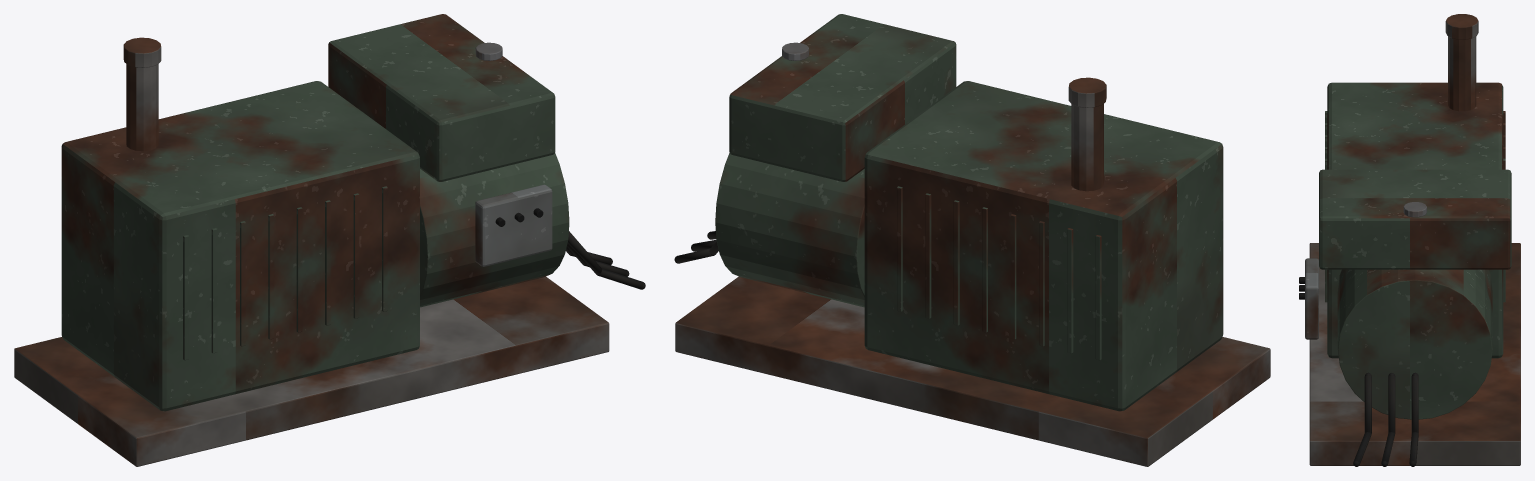
The model's file is F13_diesel_generator.glb.
3 renders of one model, left to right at view 1: azimuth 30°, elevation 25°; view 2: azimuth 150°, elevation 25°; view 3: azimuth 270°, elevation 25°, orthographic. The views are drawn at different scales.
Visible parts, largest first — view 1: F13_diesel_generator; view 2: F13_diesel_generator; view 3: F13_diesel_generator.
Boxes of the visible parts, box(x1,y1,x2,y2) form: F13_diesel_generator: box(14, 14, 645, 466); F13_diesel_generator: box(674, 14, 1270, 466); F13_diesel_generator: box(1299, 14, 1520, 466).
Size of the model in its own units: 2 by 1.19 by 0.8344.
6 materials, 6 textured.
